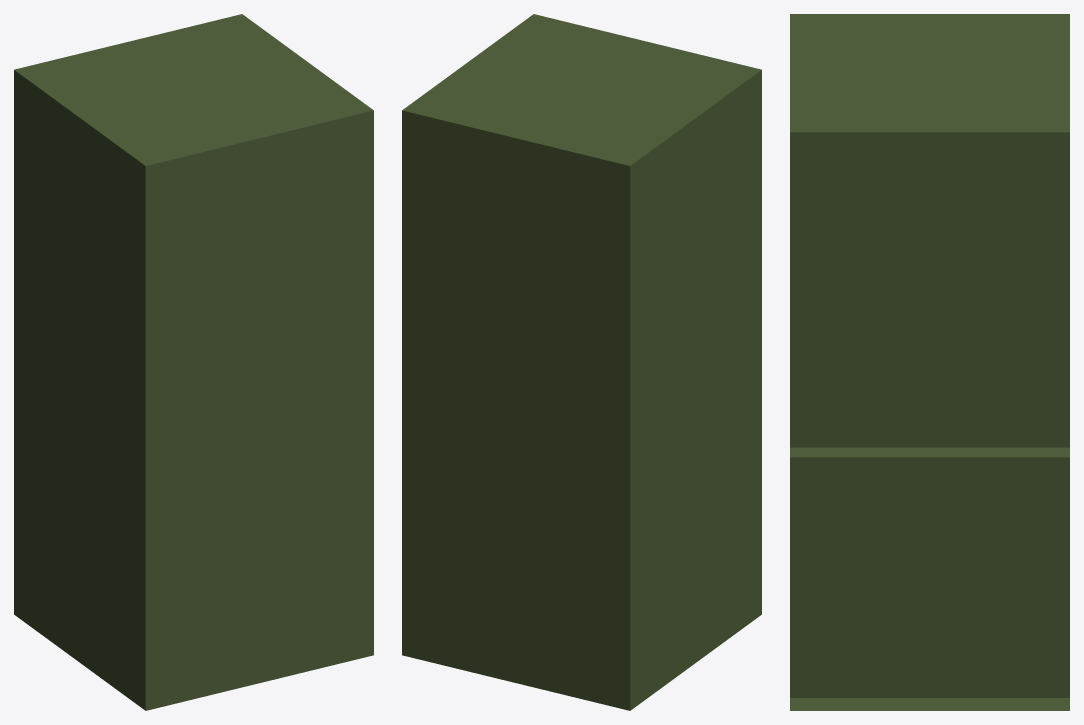
File: Cabinet.fbx
3 views of the same model, side by side, from view 1: azimuth 30°, elevation 25°; view 2: azimuth 150°, elevation 25°; view 3: azimuth 270°, elevation 25° (orthographic). The views are drawn at different scales.
Visible parts, largest first — view 1: Cube; view 2: Cube; view 3: Cube.
Part boxes in pixels (box(x1,y1,x2,y2)): Cube: box(14, 14, 373, 710); Cube: box(402, 14, 761, 710); Cube: box(790, 14, 1069, 710).
Size of the model in its own units: 200 by 456 by 200.
